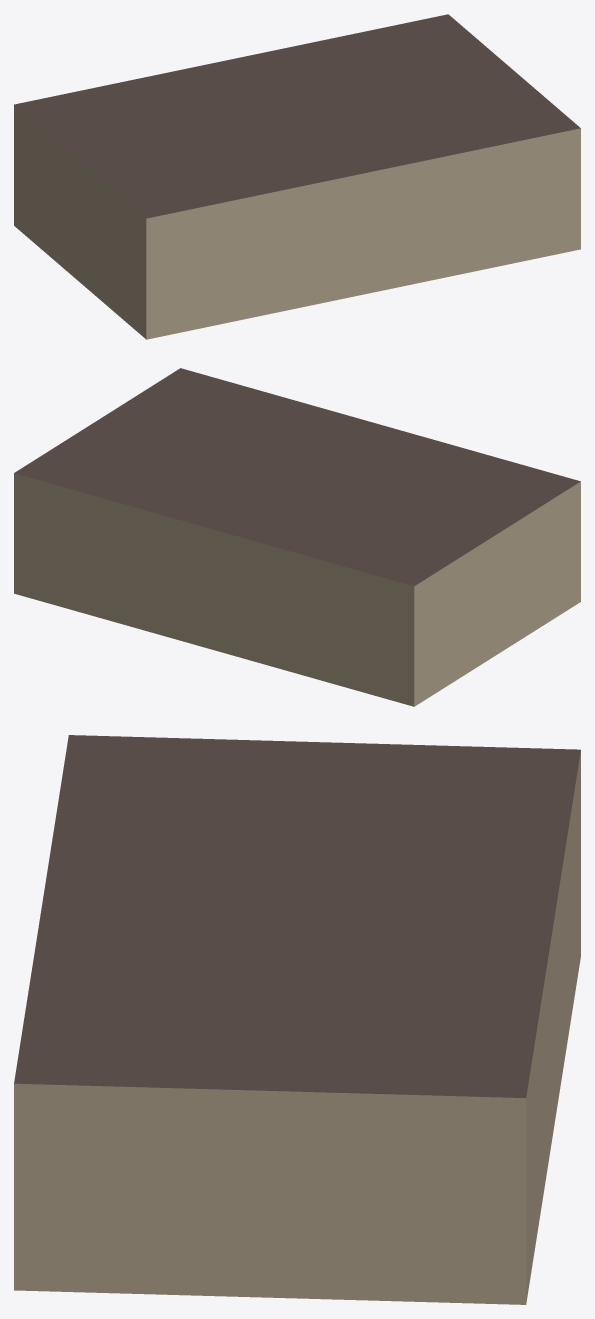
3 renders of one model, top to bottom at view 1: azimuth 30°, elevation 25°; view 2: azimuth 150°, elevation 25°; view 3: azimuth 270°, elevation 25°, orthographic. The views are drawn at different scales.
Parts seen in each view (by area): view 1: HP-w1286965541; view 2: HP-w1286965541; view 3: HP-w1286965541.
Boxes of the visible parts, x1,y1,x2,y2 form: HP-w1286965541: (14, 14, 580, 339); HP-w1286965541: (14, 368, 580, 706); HP-w1286965541: (14, 735, 580, 1304).
Bounding box in the file's own units: 33.89 × 9 × 22.36.
